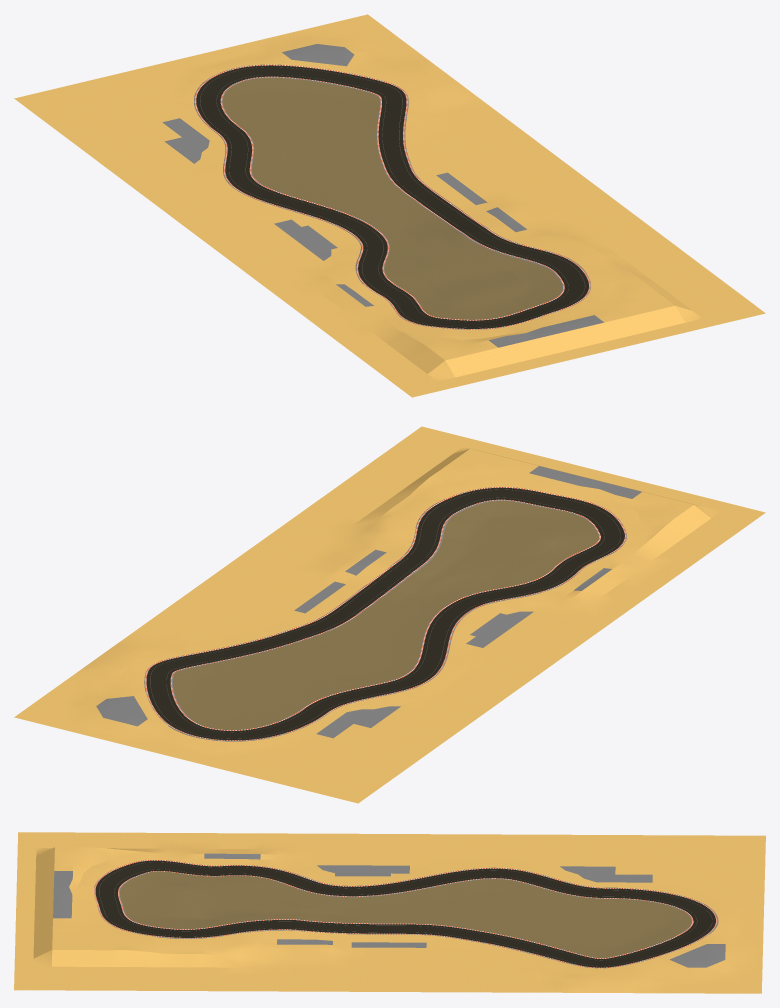
3 views of the same model, one above another, from view 1: azimuth 30°, elevation 25°; view 2: azimuth 150°, elevation 25°; view 3: azimuth 270°, elevation 25° (orthographic). The views are drawn at different scales.
Visible parts, largest first — view 1: SouthLoop-col_2, CurbeOuter-col_1, CurbeInner-col_0; view 2: SouthLoop-col_2, CurbeOuter-col_1, CurbeInner-col_0; view 3: SouthLoop-col_2, CurbeOuter-col_1, CurbeInner-col_0.
Part boxes in pixels (box(x1,y1,x2,y2)): SouthLoop-col_2: box(14, 14, 765, 397); CurbeOuter-col_1: box(194, 64, 590, 329); CurbeInner-col_0: box(220, 76, 564, 320); SouthLoop-col_2: box(14, 426, 765, 803); CurbeOuter-col_1: box(144, 487, 626, 741); CurbeInner-col_0: box(170, 499, 600, 730); SouthLoop-col_2: box(14, 832, 765, 993); CurbeOuter-col_1: box(94, 860, 718, 968); CurbeInner-col_0: box(118, 871, 693, 958).
Bounding box in the file's own units: 409 × 11 × 804.
7 materials, 7 textured.
